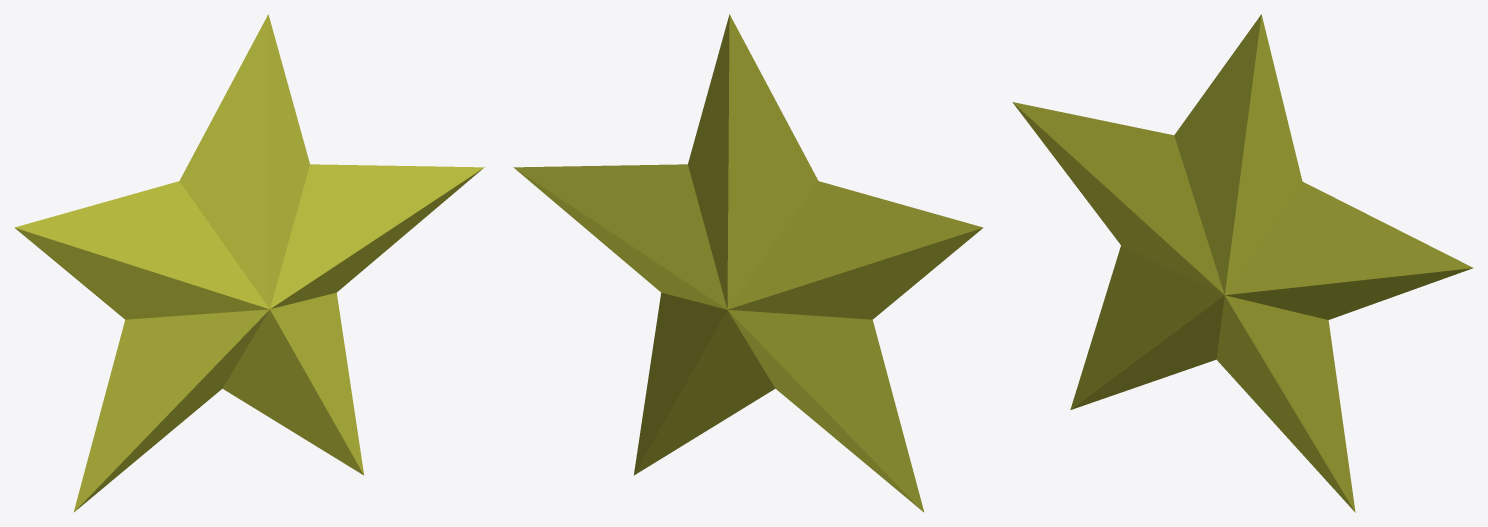
File: star.obj
The picture shows the model from 3 angles, left to right: view 1: azimuth 30°, elevation 25°; view 2: azimuth 150°, elevation 25°; view 3: azimuth 330°, elevation 25°; orthographic projection.
Visible parts, largest first — view 1: estrellica; view 2: estrellica; view 3: estrellica.
Boxes of the visible parts, x1=… form: estrellica: x1=14, y1=14, x2=484, y2=512; estrellica: x1=513, y1=14, x2=983, y2=512; estrellica: x1=1012, y1=14, x2=1473, y2=512.
Bounding box in the file's own units: 15.61 × 15.38 × 2.27.
Materials: 1 (1 with a texture image).
